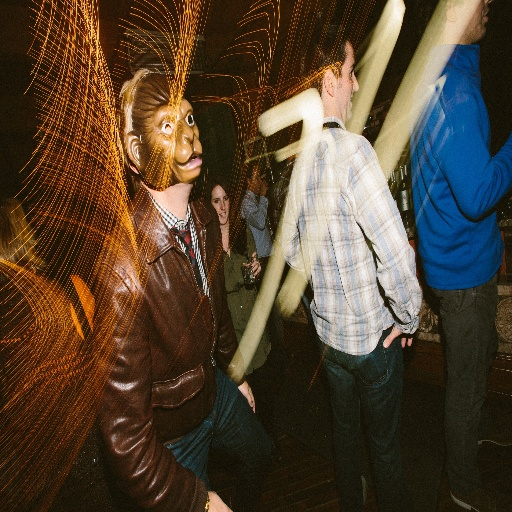hand: (381, 321, 413, 349), (237, 379, 254, 416), (204, 489, 232, 511), (242, 251, 261, 277), (259, 178, 269, 194)
